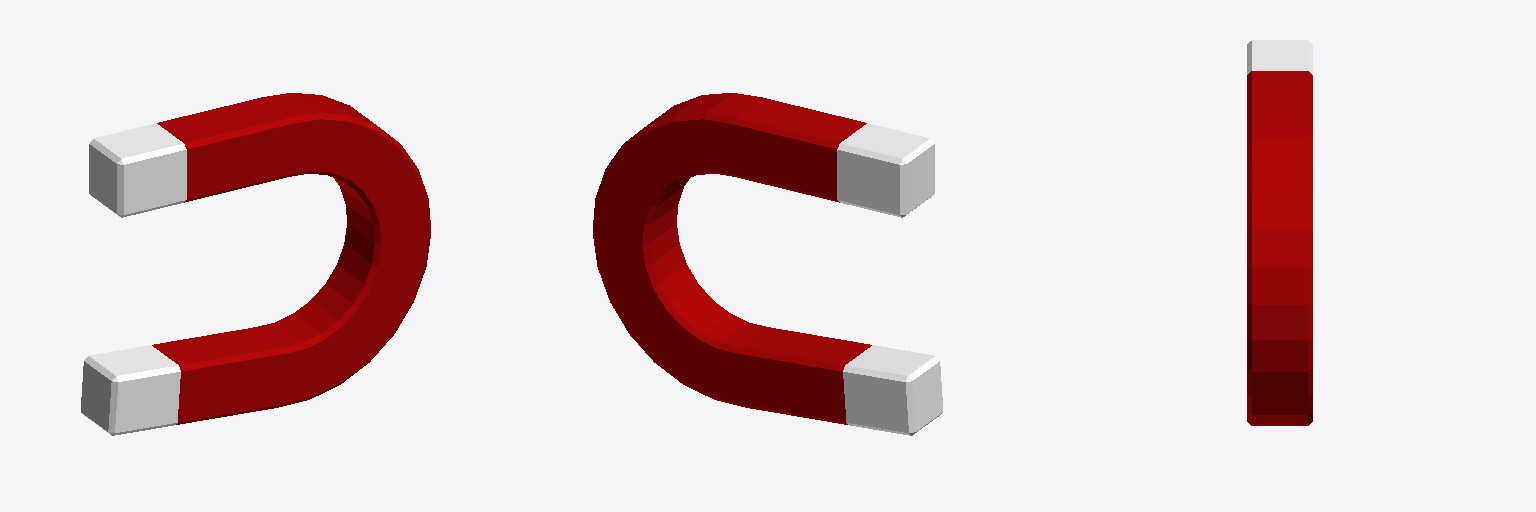
Rendered from Magnet.obj.
The picture shows the model from 3 angles: view 1: azimuth 30°, elevation 25°; view 2: azimuth 150°, elevation 25°; view 3: azimuth 270°, elevation 25°; orthographic projection.
Visible parts, largest first — view 1: Magnet; view 2: Magnet; view 3: Magnet.
Boxes of the visible parts, x1=… form: Magnet: x1=81, y1=93, x2=430, y2=435; Magnet: x1=593, y1=93, x2=942, y2=435; Magnet: x1=1247, y1=40, x2=1312, y2=425.
Bounding box in the file's own units: 228 × 194 × 40.